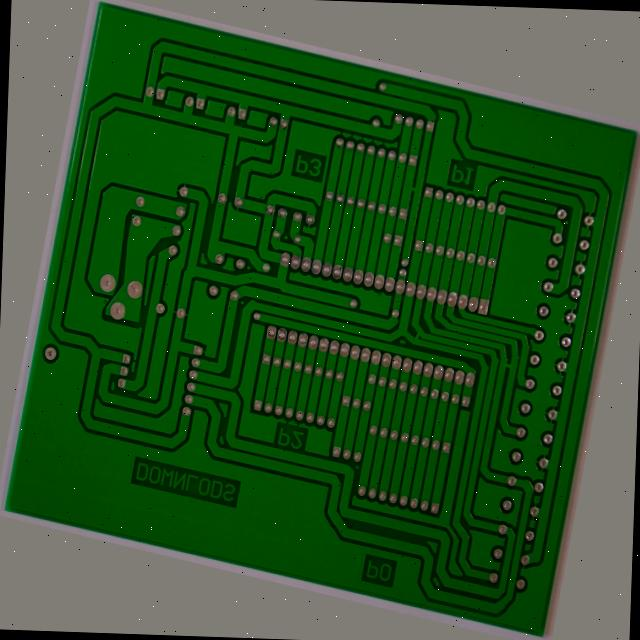short: (524, 317, 549, 341), (420, 301, 440, 325), (392, 131, 409, 154)
